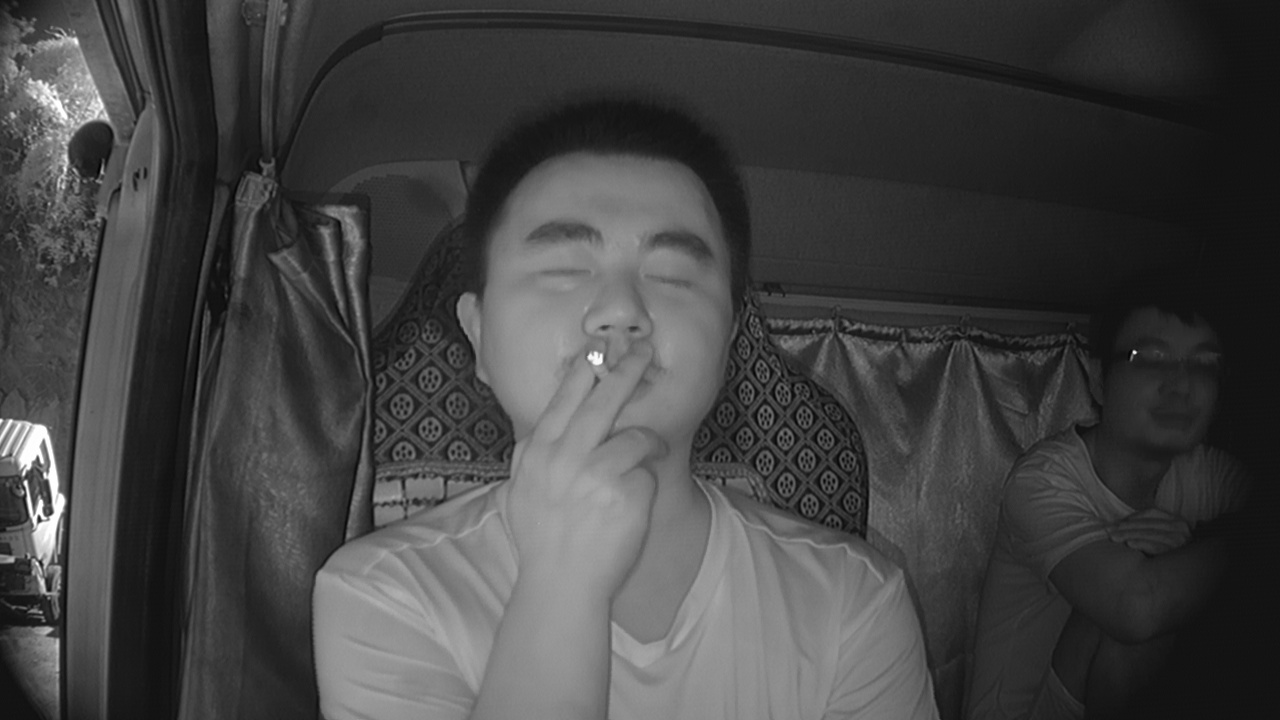hand: (493, 339, 681, 548)
